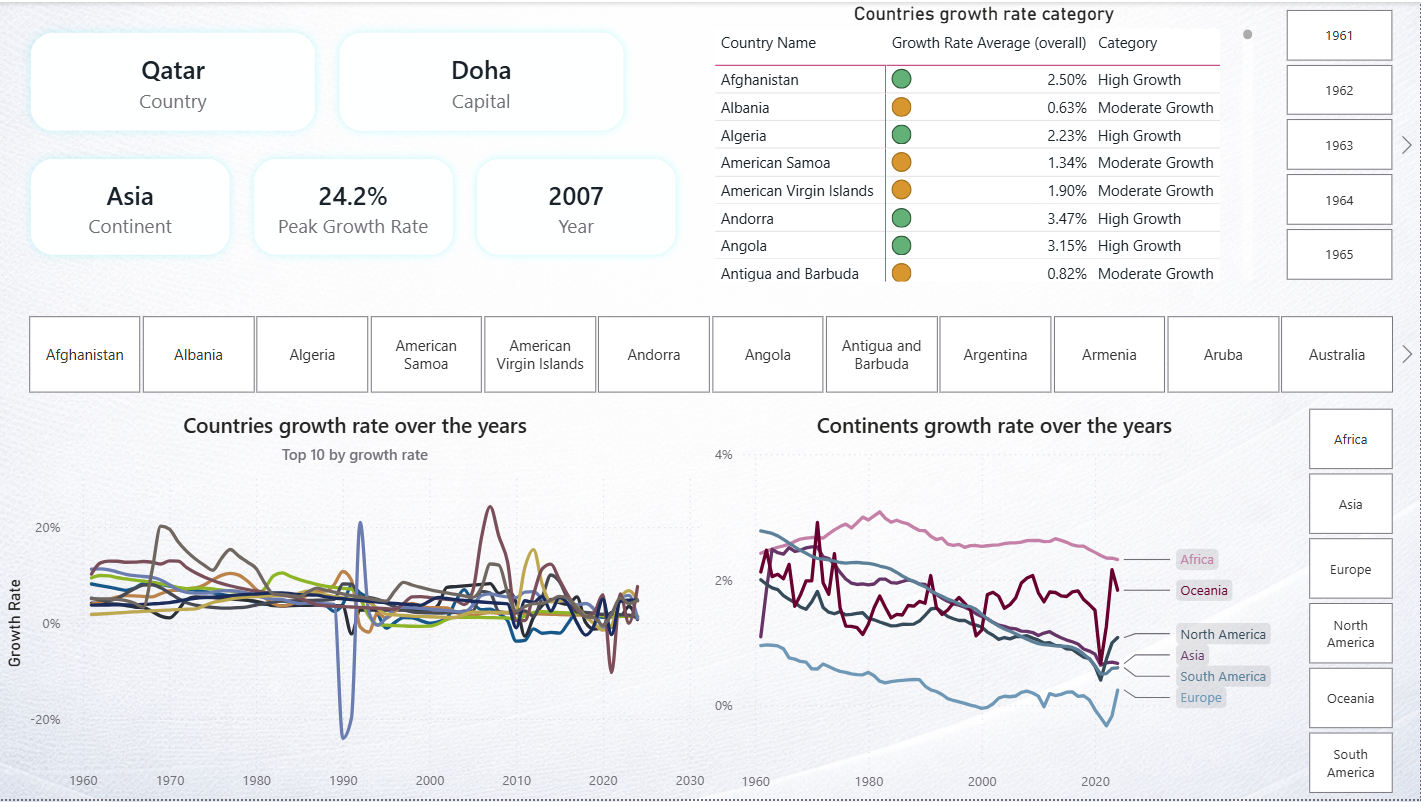

The page's visual inventory and layout, read from the dashboard file:
{"tool":"powerbi","page":{"name":"Population Growth","canvas":[1280,720],"ordinal":1},"visuals":[{"type":"lineChart","title":"Countries growth rate over the years","fields":{"Y":["_Measures_.Countries Growth Rate"],"Category":["world_population dim_year.year_record"],"Series":["world_population dim_countries.country_name"]},"box":[0,360,640,360],"z":0},{"type":"slicer","fields":{"Values":["world_population dim_countries.continent"]},"box":[1154.4,359.5,125.6,360.7],"z":1000},{"type":"slicer","fields":{"Values":["world_population dim_countries.country_name"]},"box":[0,276.2,1280,83.3],"z":2000},{"type":"cardVisual","fields":{"Data":["_Measures_.Peak Growth Country","_Measures_.Peak Growth Capital"]},"box":[0,0,590,144.3],"z":3000},{"type":"pivotTable","title":"Countries growth rate category","fields":{"Values":["_Measures_.Countries Growth Rate","Growth Categories.Country Growth Category"],"Rows":["world_population dim_countries.country_name"]},"box":[640,0,494.3,257.1],"z":4000},{"type":"cardVisual","fields":{"Data":["_Measures_.Peak Growth Continent","_Measures_.Peak Growth Rate","_Measures_.Peak Growth Year"]},"box":[0,114.3,638.6,142.9],"z":5000},{"type":"slicer","fields":{"Values":["world_population dim_year.year_record"]},"box":[1134.3,0,145.7,257.1],"z":6000},{"type":"lineChart","title":"Continents growth rate over the years","fields":{"Y":["_Measures_.Countries Growth Rate"],"Category":["world_population dim_year.year_record"],"Series":["world_population dim_countries.continent"]},"box":[639.4,359.5,515,360.7],"z":7000}]}

Visuals, with their boxes in screenshot pixels (x1, y1, x2, y2), scaled from the page's 1280x720 canvas onto the 1421x802 screenshot:
"Countries growth rate over the years" lineChart: box(0, 401, 710, 801)
slicer - world_population dim_countries.continent: box(1282, 400, 1420, 801)
slicer - world_population dim_countries.country_name: box(0, 308, 1420, 400)
cardVisual - _Measures_.Peak Growth Country x _Measures_.Peak Growth Capital: box(0, 0, 655, 161)
"Countries growth rate category" pivotTable: box(710, 0, 1259, 286)
cardVisual - _Measures_.Peak Growth Continent x _Measures_.Peak Growth Rate: box(0, 127, 709, 286)
slicer - world_population dim_year.year_record: box(1259, 0, 1420, 286)
"Continents growth rate over the years" lineChart: box(710, 400, 1282, 801)
